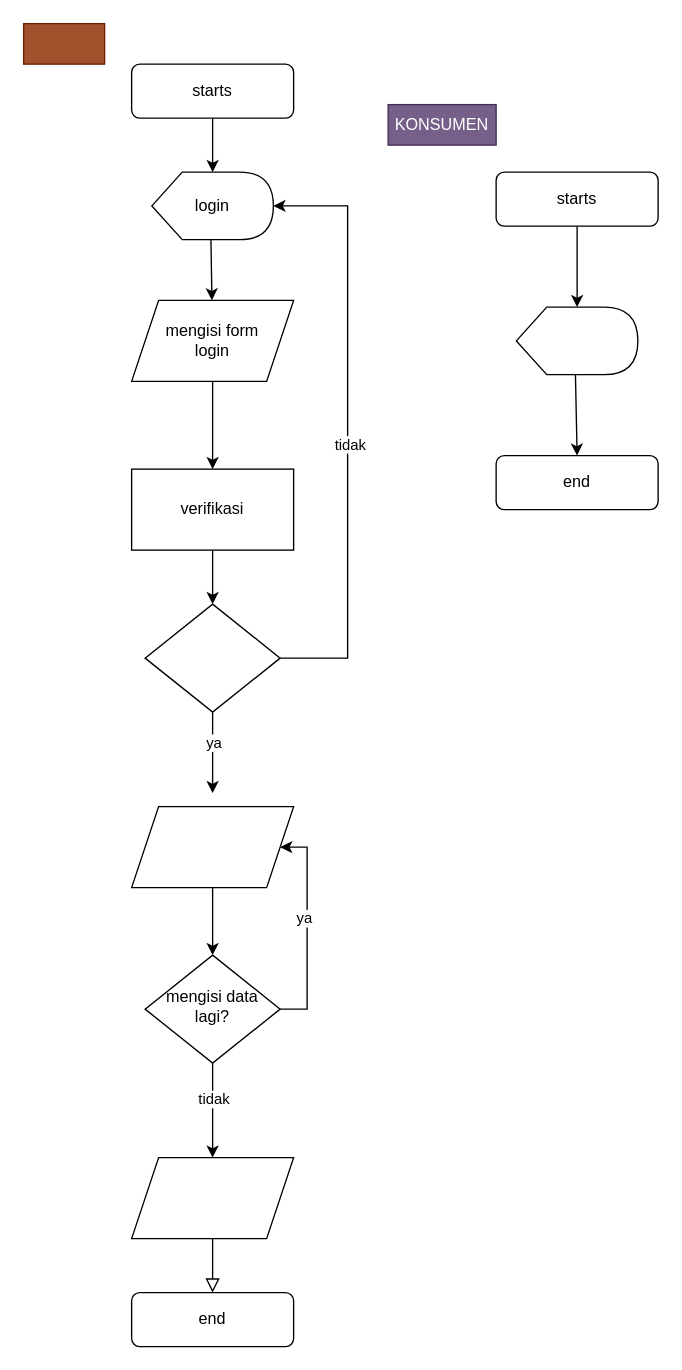
Image size: 682x1370. Some labels were removed from this diagram. Each missing label, with the centre of its shape:
"berhasil?" belongs at (x=212, y=657).
"catatan data produk" belongs at (x=212, y=1197).
"data produk" belongs at (x=576, y=340).
"mengisi data produk" belongs at (x=212, y=846).
"USER" belongs at (x=63, y=43).
